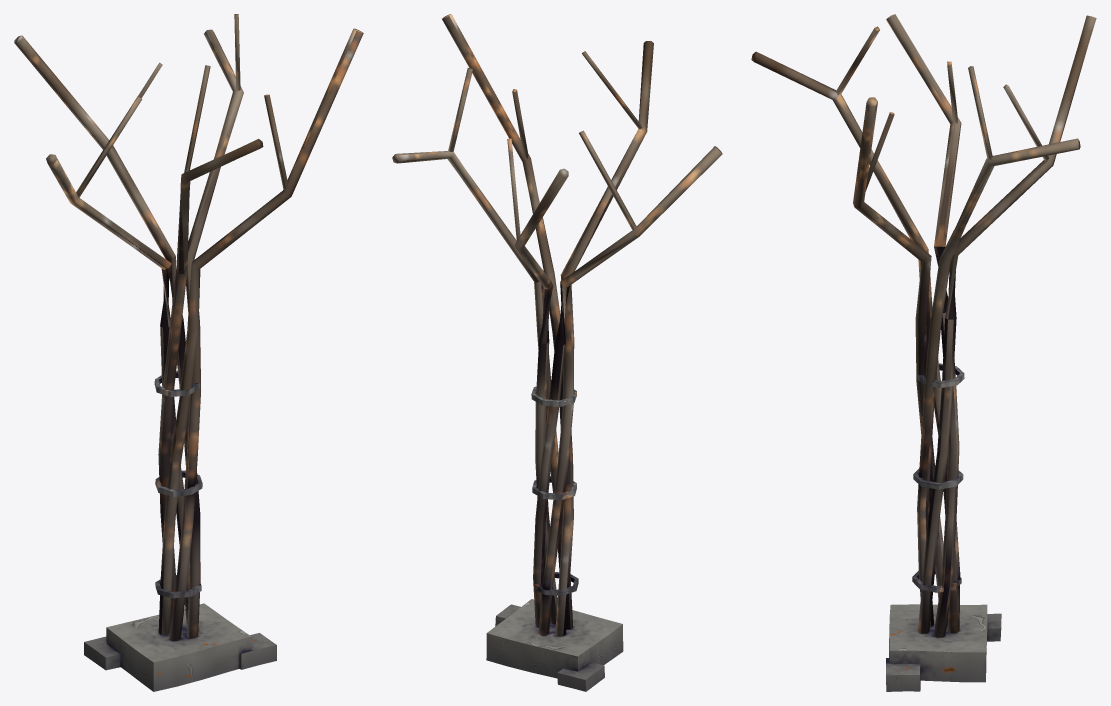
File: ScrapTreeRebar.glb
The picture shows the model from 3 angles, left to right: view 1: azimuth 30°, elevation 25°; view 2: azimuth 150°, elevation 25°; view 3: azimuth 270°, elevation 25°; orthographic projection. The views are drawn at different scales.
Parts seen in each view (by area): view 1: Rebar, Footing, Ties; view 2: Rebar, Footing, Ties; view 3: Rebar, Footing, Ties.
Part boxes in pixels (x1,y1,x2,y2): Rebar: [14, 14, 363, 641]; Footing: [84, 603, 276, 691]; Ties: [154, 371, 202, 598]; Rebar: [392, 14, 722, 636]; Footing: [486, 599, 623, 691]; Ties: [531, 386, 578, 595]; Rebar: [751, 14, 1096, 637]; Footing: [886, 604, 1001, 691]; Ties: [912, 363, 964, 592].
Size of the model in its own units: 5.08 by 9.87 by 4.88.
3 materials, 3 textured.
